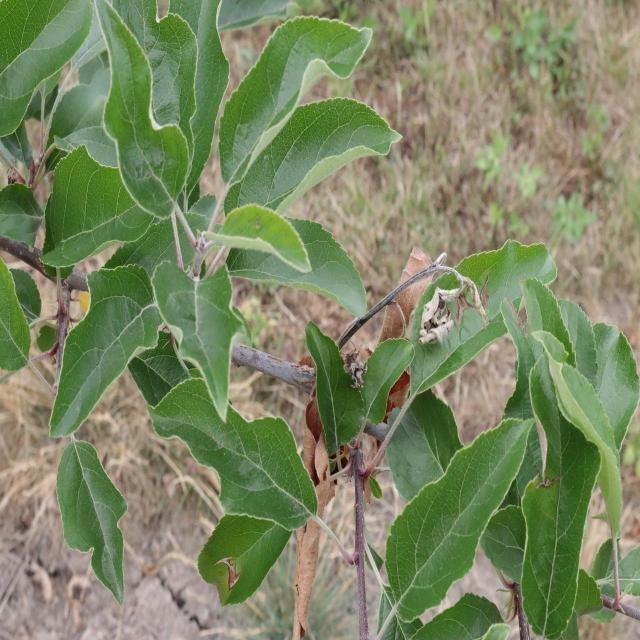-FireBlight-: (284, 400, 343, 640), (425, 276, 483, 356), (379, 306, 414, 426)
